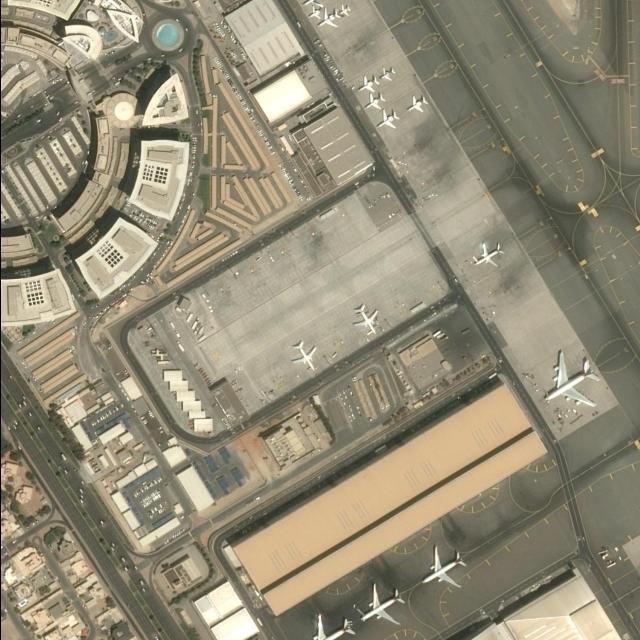Aircraft: (542, 348, 598, 411), (358, 581, 403, 629), (422, 544, 467, 591), (305, 611, 353, 640), (472, 239, 502, 271), (289, 339, 316, 373), (351, 305, 378, 337), (375, 109, 399, 131), (315, 9, 337, 31), (363, 91, 385, 111), (405, 94, 427, 114), (355, 73, 376, 93), (336, 3, 352, 19), (306, 6, 320, 24), (378, 67, 396, 81), (300, 0, 321, 7)
